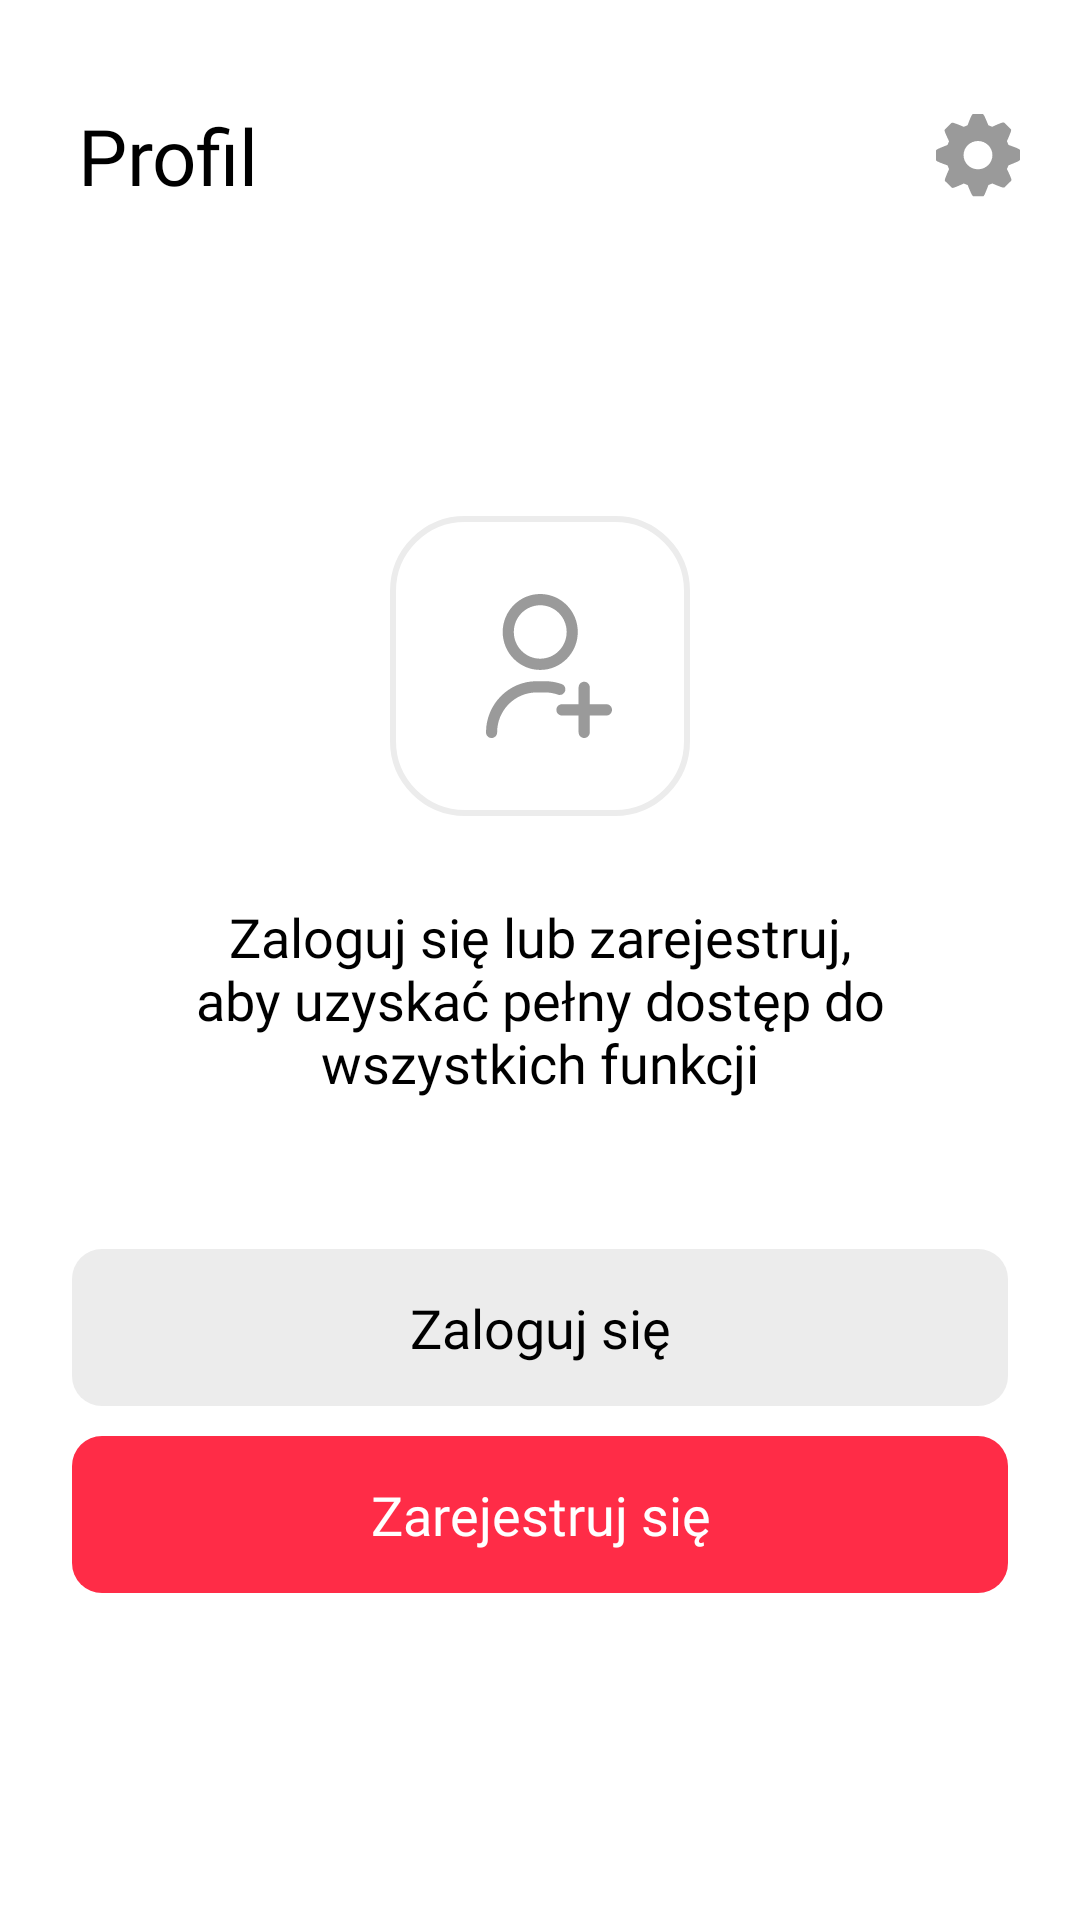

Screen size 1080 × 1920. Icon name, then its box in pixels as (x1, y1, x2, y2):
add user: (486, 594, 612, 738)
